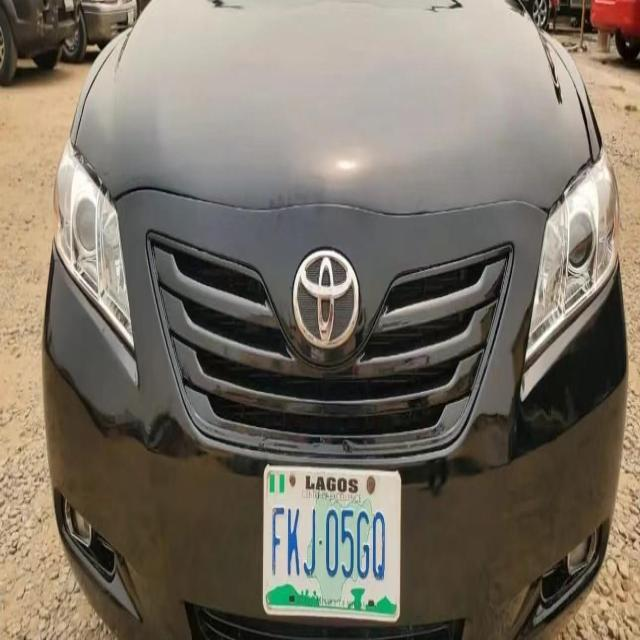Nigerian License Plate - vdataset benjamin-daria: (262, 466, 402, 620)
